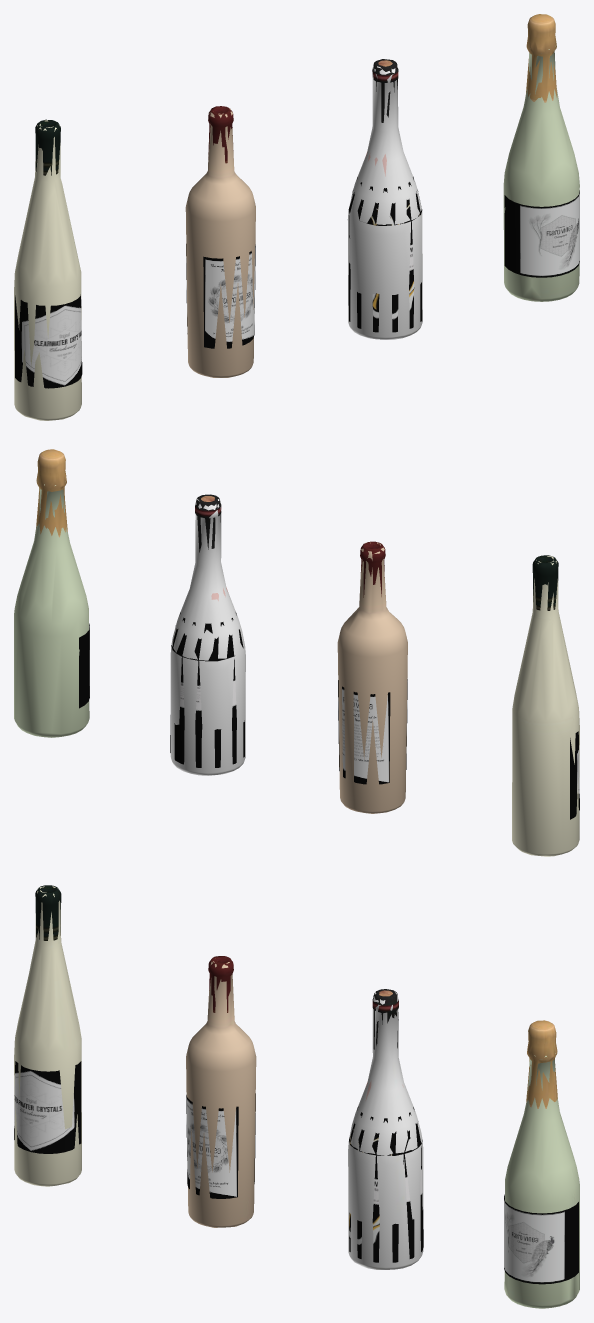
File: wine_bottles_01.glb
3 views of the same model, one above another, from view 1: azimuth 30°, elevation 25°; view 2: azimuth 150°, elevation 25°; view 3: azimuth 330°, elevation 25° (orthographic).
Parts seen in each view (by area): view 1: wine_bottles_01_bordeaux, wine_bottles_01_champagne, wine_bottles_01_alsace, wine_bottles_01_burgundy; view 2: wine_bottles_01_bordeaux, wine_bottles_01_burgundy, wine_bottles_01_champagne, wine_bottles_01_alsace; view 3: wine_bottles_01_bordeaux, wine_bottles_01_champagne, wine_bottles_01_alsace, wine_bottles_01_burgundy.
Part boxes in pixels (x1,y1,x2,y2): wine_bottles_01_bordeaux: [14, 14, 579, 420]; wine_bottles_01_champagne: [504, 190, 579, 277]; wine_bottles_01_alsace: [15, 294, 82, 388]; wine_bottles_01_burgundy: [348, 153, 422, 332]; wine_bottles_01_bordeaux: [14, 449, 579, 856]; wine_bottles_01_burgundy: [170, 588, 244, 767]; wine_bottles_01_champagne: [79, 623, 89, 708]; wine_bottles_01_alsace: [570, 731, 579, 819]; wine_bottles_01_bordeaux: [14, 885, 579, 1308]; wine_bottles_01_champagne: [504, 1194, 578, 1284]; wine_bottles_01_alsace: [14, 1061, 81, 1153]; wine_bottles_01_burgundy: [349, 1082, 423, 1262].
Bounding box in the file's own units: 0.6763 × 0.3313 × 0.0804.
9 materials, 6 textured.
